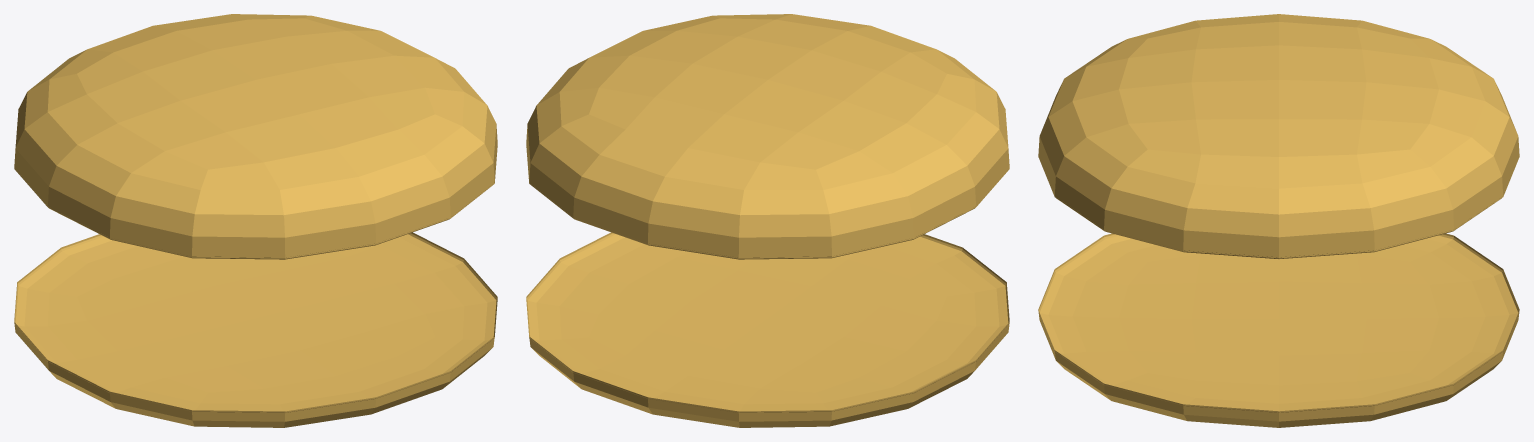
File: PainBORGIR.fbx
3 views of the same model, side by side, from view 1: azimuth 30°, elevation 25°; view 2: azimuth 150°, elevation 25°; view 3: azimuth 270°, elevation 25° (orthographic).
Parts seen in each view (by area): view 1: Cube, Cube.001; view 2: Cube, Cube.001; view 3: Cube, Cube.001.
Boxes of the visible parts, x1,y1,x2,y2 form: Cube: (14,14,497,259); Cube.001: (14,232,497,427); Cube: (526,14,1009,259); Cube.001: (526,232,1009,427); Cube: (1038,14,1519,258); Cube.001: (1038,233,1519,427).
Size of the model in its own units: 183 by 114 by 183.
